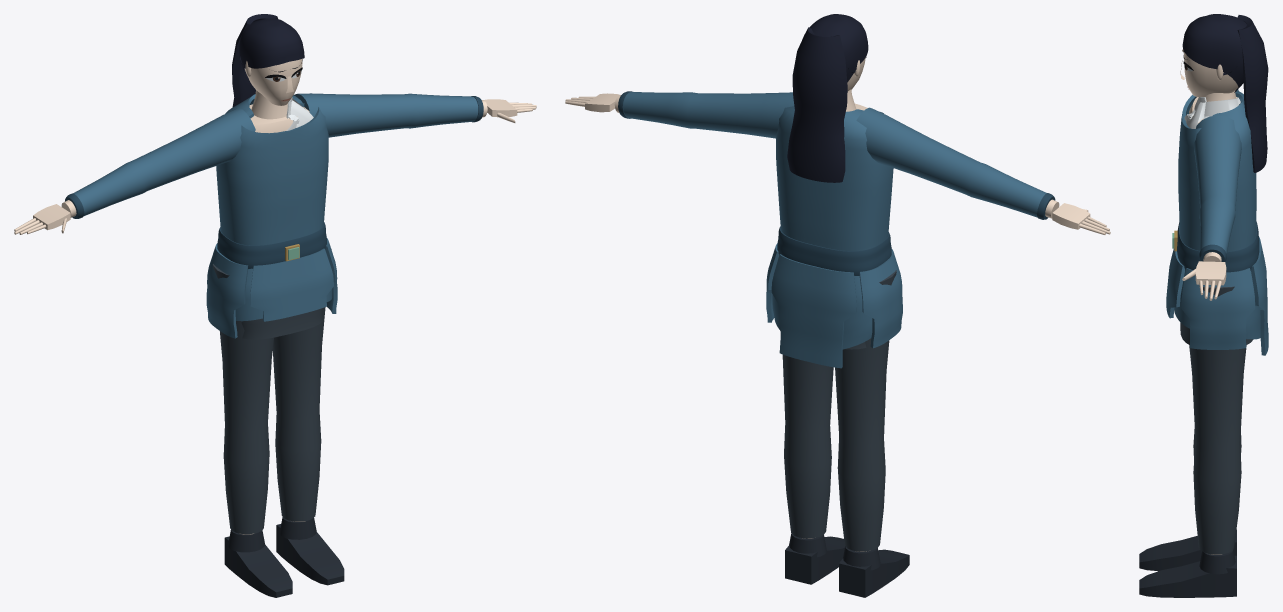
File: cultivator_handsome_youth_v8_blender.glb
3 views of the same model, side by side, from view 1: azimuth 30°, elevation 25°; view 2: azimuth 150°, elevation 25°; view 3: azimuth 270°, elevation 25° (orthographic). The views are drawn at different scales.
Visible parts, largest first — view 1: V8_Outfit, V8_Hair, V8_Body, V8_Head_Face; view 2: V8_Outfit, V8_Hair, V8_Body; view 3: V8_Outfit, V8_Hair, V8_Body, V8_Head_Face.
Part boxes in pixels (bbox=[...]): V8_Outfit: bbox=[65, 93, 483, 597]; V8_Hair: bbox=[232, 14, 304, 106]; V8_Body: bbox=[14, 90, 536, 534]; V8_Head_Face: bbox=[244, 59, 302, 105]; V8_Outfit: bbox=[618, 91, 1055, 597]; V8_Hair: bbox=[787, 14, 868, 182]; V8_Body: bbox=[565, 89, 1110, 551]; V8_Outfit: bbox=[1139, 89, 1268, 597]; V8_Hair: bbox=[1182, 14, 1268, 172]; V8_Body: bbox=[1182, 49, 1237, 554]; V8_Head_Face: bbox=[1180, 51, 1238, 97].
Bounding box in the file's own units: 1.78 × 1.75 × 0.3688.
